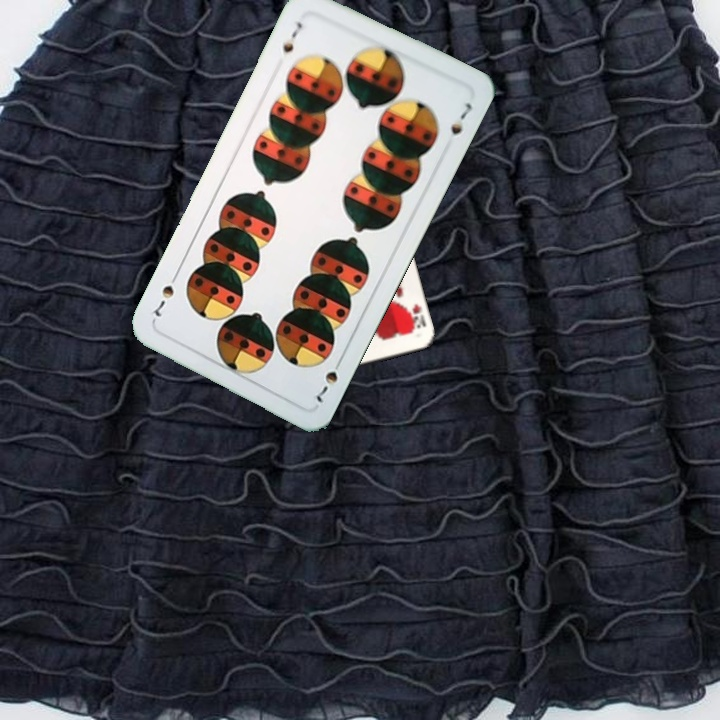HK: (403, 300, 428, 335)
S7: (312, 353, 346, 406), (279, 18, 305, 56)
